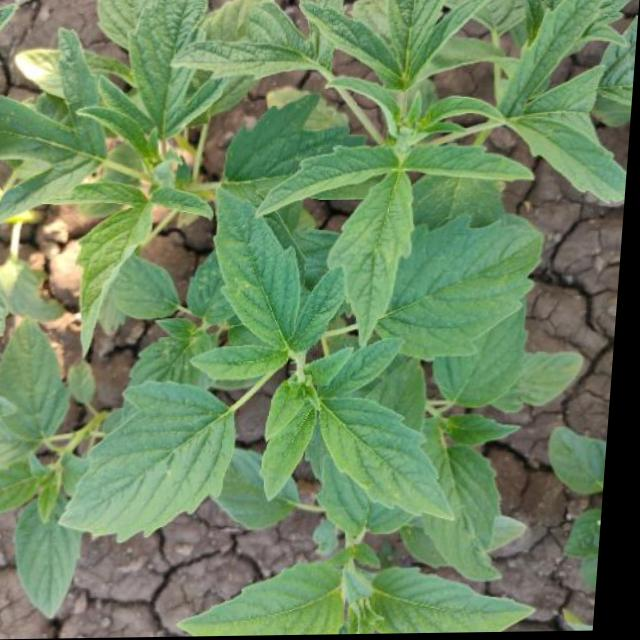crop: (0, 6, 624, 568)
